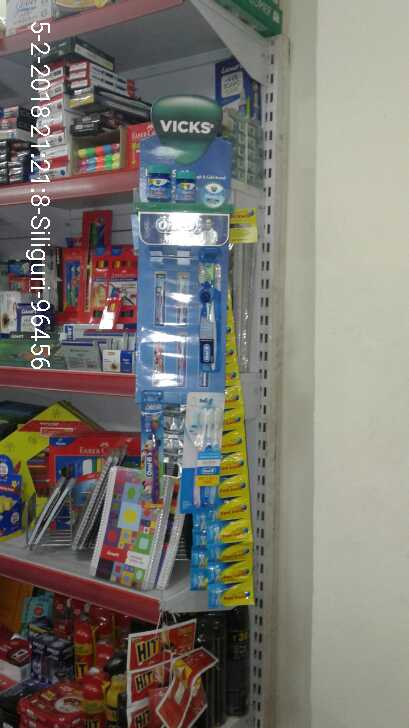vicks: (144, 159, 196, 204)
